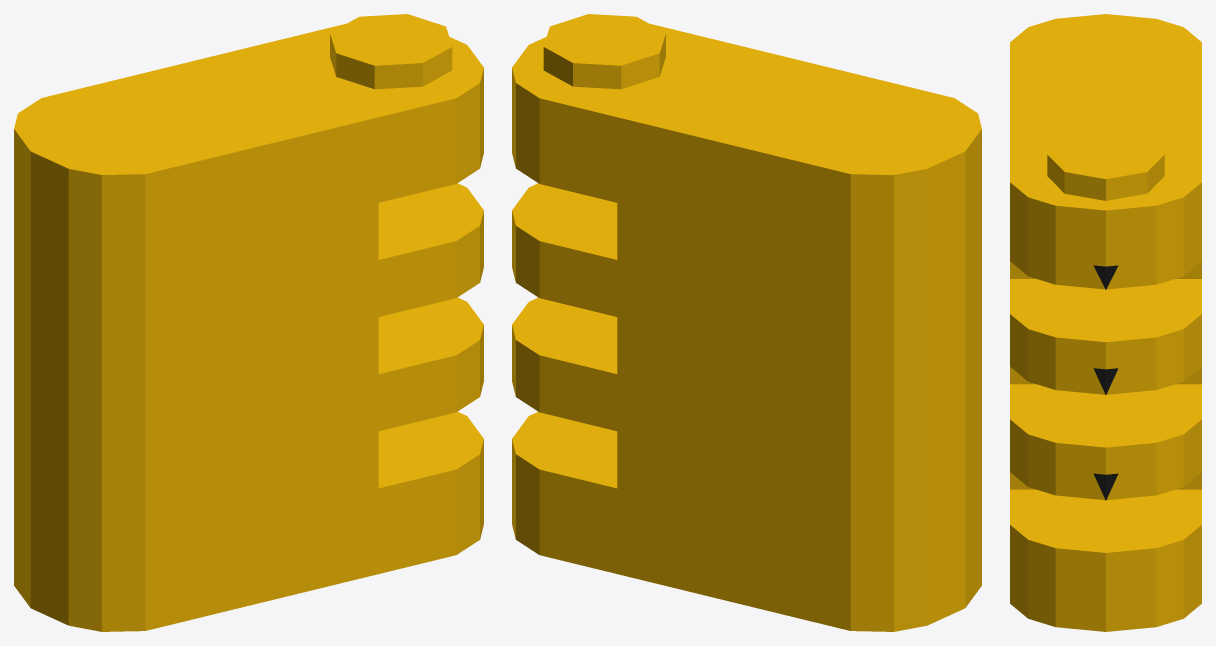
Rendered from BaseCandado.fbx.
The picture shows the model from 3 angles, left to right: view 1: azimuth 30°, elevation 25°; view 2: azimuth 150°, elevation 25°; view 3: azimuth 270°, elevation 25°; orthographic projection. The views are drawn at different scales.
Parts seen in each view (by area): view 1: BaseCandado; view 2: BaseCandado; view 3: BaseCandado.
Boxes of the visible parts, x1=… form: BaseCandado: x1=14, y1=14, x2=483, y2=631; BaseCandado: x1=512, y1=14, x2=981, y2=631; BaseCandado: x1=1010, y1=14, x2=1201, y2=631.
Bounding box in the file's own units: 10.09 × 10.57 × 4.14.
